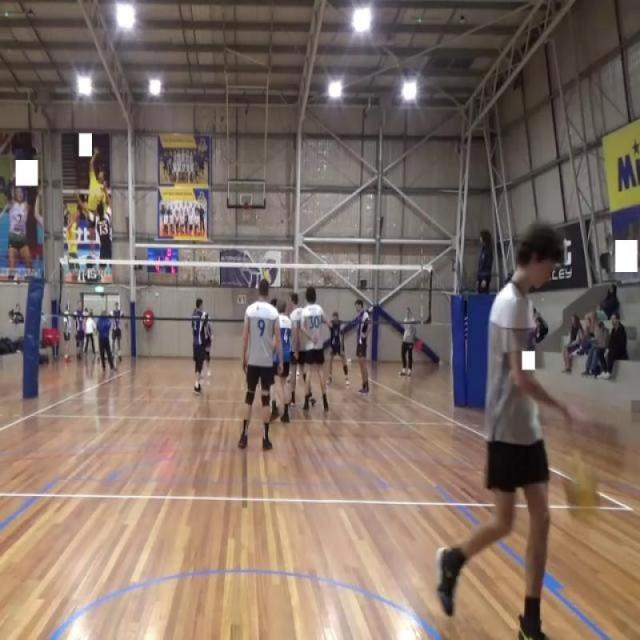volleyball: (558, 454, 606, 526)
